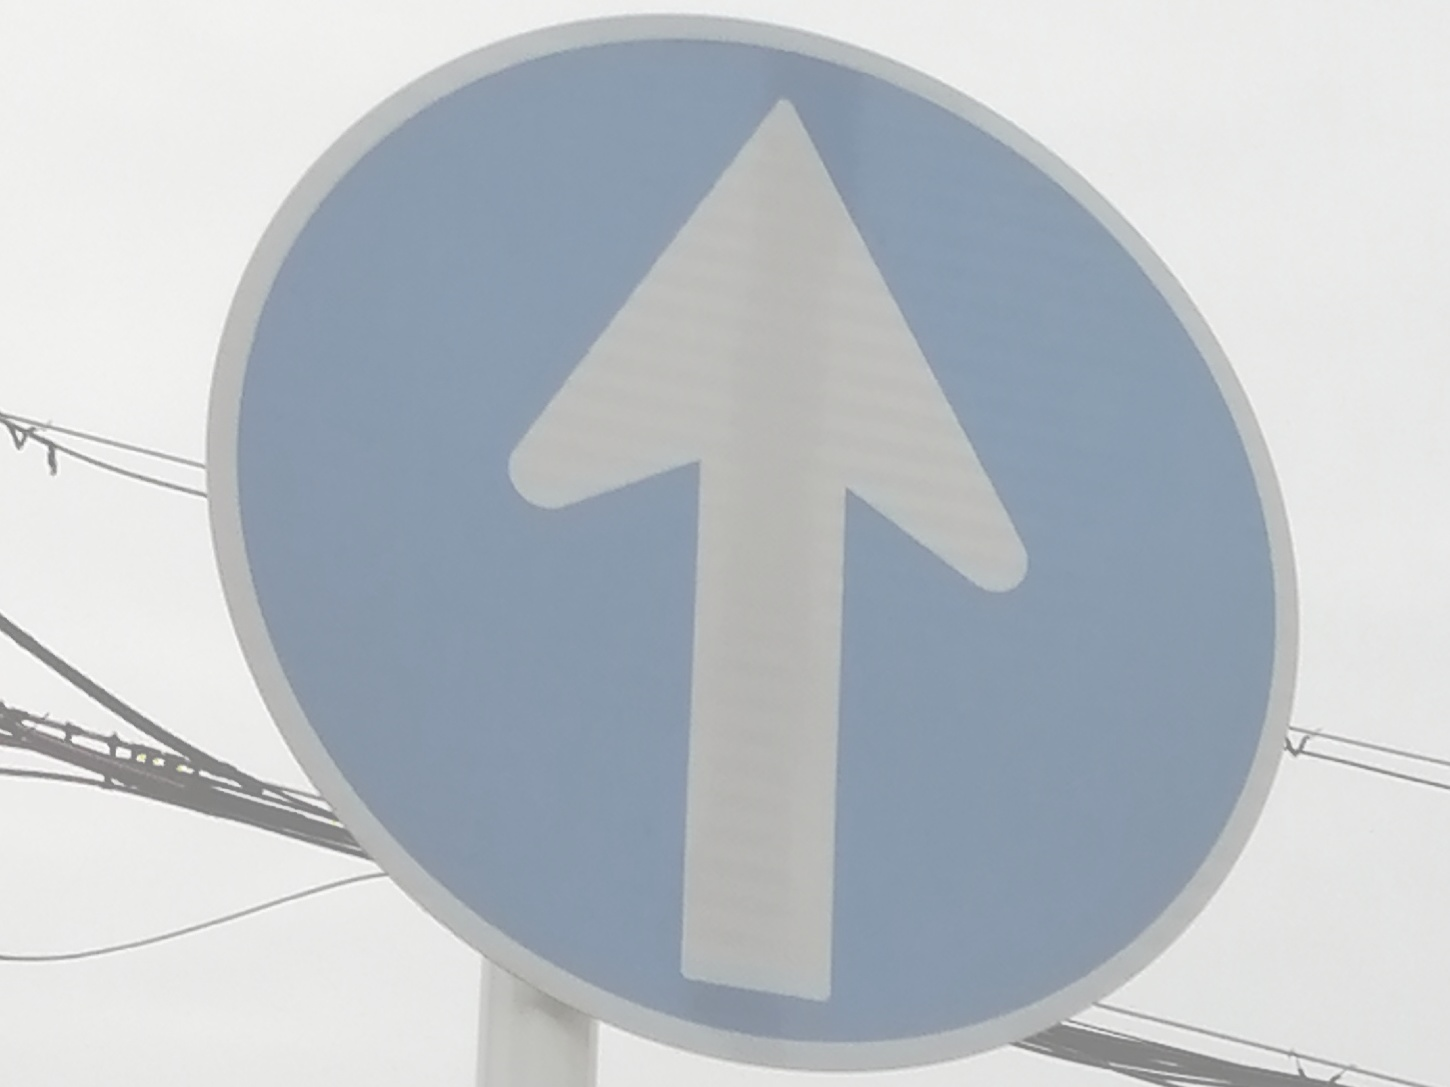Direction_sign: (194, 7, 1336, 1066)
